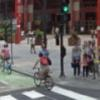bicycles: (32, 65, 54, 90), (0, 52, 14, 74)
